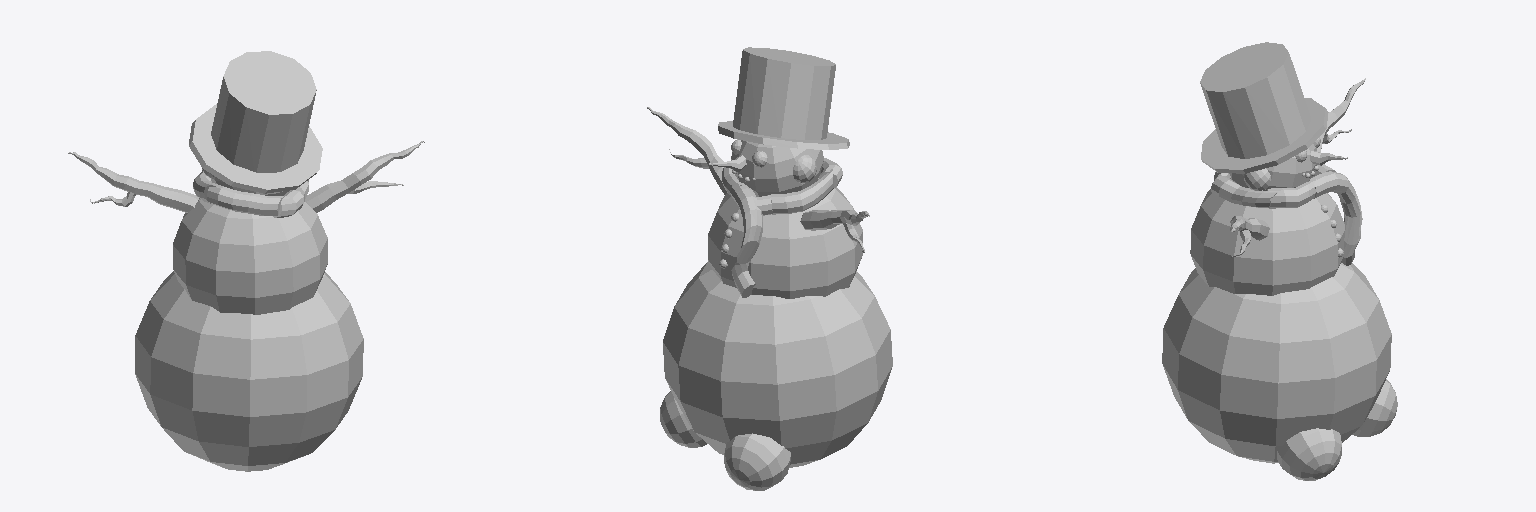
Rendered from snow-man.obj.
The picture shows the model from 3 angles: view 1: azimuth 30°, elevation 25°; view 2: azimuth 150°, elevation 25°; view 3: azimuth 270°, elevation 25°; orthographic projection.
Visible parts, largest first — view 1: group[number redacted], group[number redacted], group[number redacted], group[number redacted], group[number redacted], group[number redacted], group[number redacted], group[number redacted]; view 2: group[number redacted], group[number redacted], group[number redacted], group[number redacted], group[number redacted], group[number redacted], group[number redacted], group[number redacted], group[number redacted], group[number redacted], group[number redacted]; view 3: group[number redacted], group[number redacted], group[number redacted], group[number redacted], group[number redacted], group[number redacted], group[number redacted], group[number redacted], group[number redacted], group[number redacted], group[number redacted], group[number redacted].
Boxes of the visible parts, <box> form: group[number redacted]: <box>135,271,363,471</box>; group[number redacted]: <box>173,198,327,314</box>; group[number redacted]: <box>211,51,316,172</box>; group[number redacted]: <box>189,104,322,193</box>; group[number redacted]: <box>68,152,198,212</box>; group[number redacted]: <box>305,141,424,212</box>; group[number redacted]: <box>207,183,283,215</box>; group[number redacted]: <box>273,180,308,217</box>; group[number redacted]: <box>663,261,892,467</box>; group[number redacted]: <box>708,178,862,298</box>; group[number redacted]: <box>733,47,835,139</box>; group[number redacted]: <box>724,433,790,490</box>; group[number redacted]: <box>731,140,823,196</box>; group[number redacted]: <box>730,183,762,297</box>; group[number redacted]: <box>718,121,849,149</box>; group[number redacted]: <box>767,169,833,214</box>; group[number redacted]: <box>660,391,706,447</box>; group[number redacted]: <box>647,107,726,194</box>; group[number redacted]: <box>800,210,869,230</box>; group[number redacted]: <box>1162,263,1391,463</box>; group[number redacted]: <box>1190,178,1344,295</box>; group[number redacted]: <box>1200,42,1310,158</box>; group[number redacted]: <box>1277,428,1341,480</box>; group[number redacted]: <box>1201,98,1328,173</box>; group[number redacted]: <box>1311,171,1362,265</box>; group[number redacted]: <box>1229,144,1316,190</box>; group[number redacted]: <box>1352,379,1397,436</box>; group[number redacted]: <box>1211,174,1277,207</box>; group[number redacted]: <box>1267,177,1316,208</box>; group[number redacted]: <box>1230,216,1269,240</box>; group[number redacted]: <box>1317,78,1365,152</box>.
Bounding box in the file's own units: 1.76 × 2.34 × 1.24.